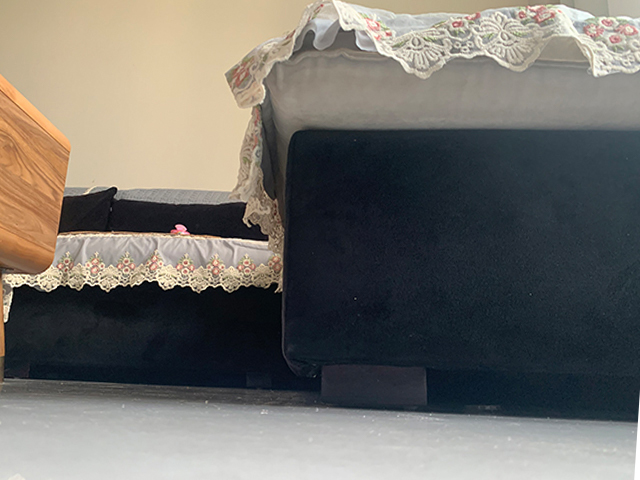sofa: (268, 14, 640, 409), (53, 183, 278, 386)
